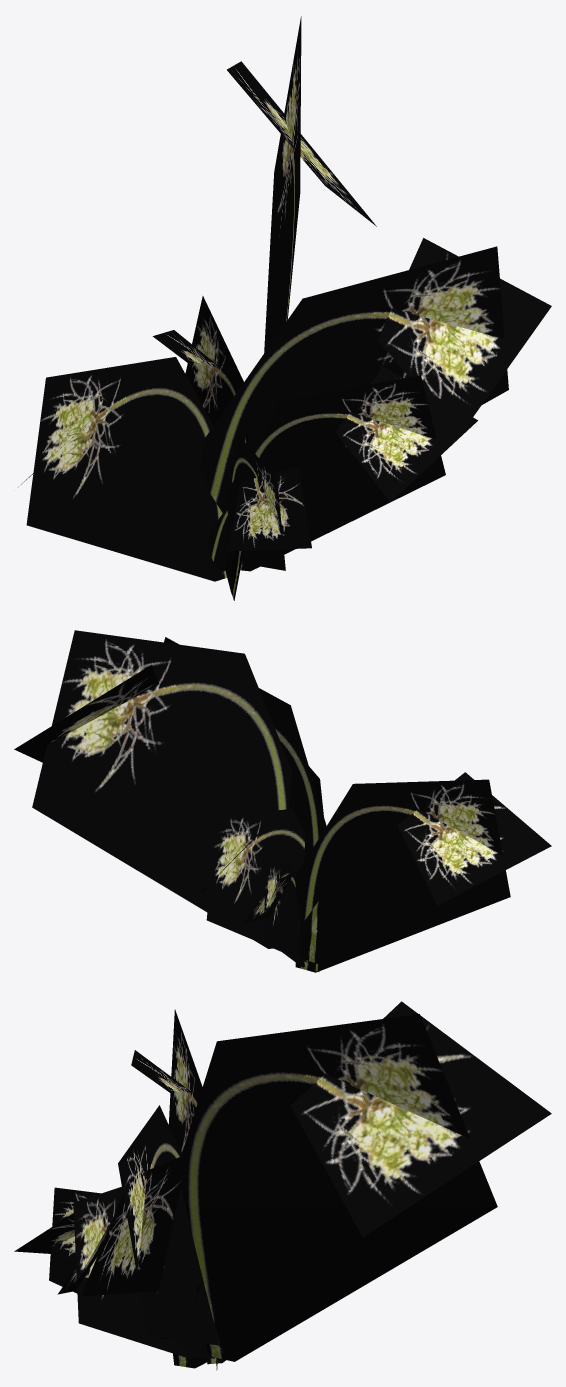
Rendered from 06_Daucus_carota_klein_001.fbx.
3 renders of one model, top to bottom at view 1: azimuth 30°, elevation 25°; view 2: azimuth 150°, elevation 25°; view 3: azimuth 270°, elevation 25°, orthographic. The views are drawn at different scales.
Visible parts, largest first — view 1: 06_Daucus_carota.klein.001; view 2: 06_Daucus_carota.klein.001; view 3: 06_Daucus_carota.klein.001.
Part boxes in pixels (x1=…): 06_Daucus_carota.klein.001: x1=18, y1=16, x2=551, y2=600; 06_Daucus_carota.klein.001: x1=14, y1=630, x2=551, y2=972; 06_Daucus_carota.klein.001: x1=14, y1=1001, x2=551, y2=1370.
Bounding box in the file's own units: 0.168 × 0.1308 × 0.1438.
